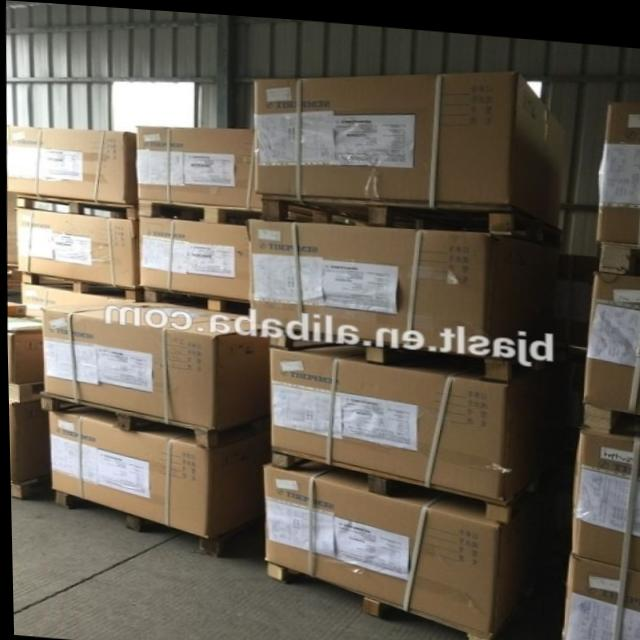box: (261, 461, 557, 628), (253, 64, 573, 216), (268, 339, 568, 495), (246, 216, 564, 343), (39, 294, 268, 427), (46, 407, 262, 532), (14, 207, 137, 286), (133, 124, 259, 201), (7, 126, 135, 201), (571, 424, 640, 562), (136, 215, 249, 295), (581, 262, 640, 407), (560, 548, 640, 640), (594, 95, 640, 237), (18, 284, 98, 315), (7, 315, 40, 383)
